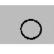no answer: (15, 13, 46, 43)
